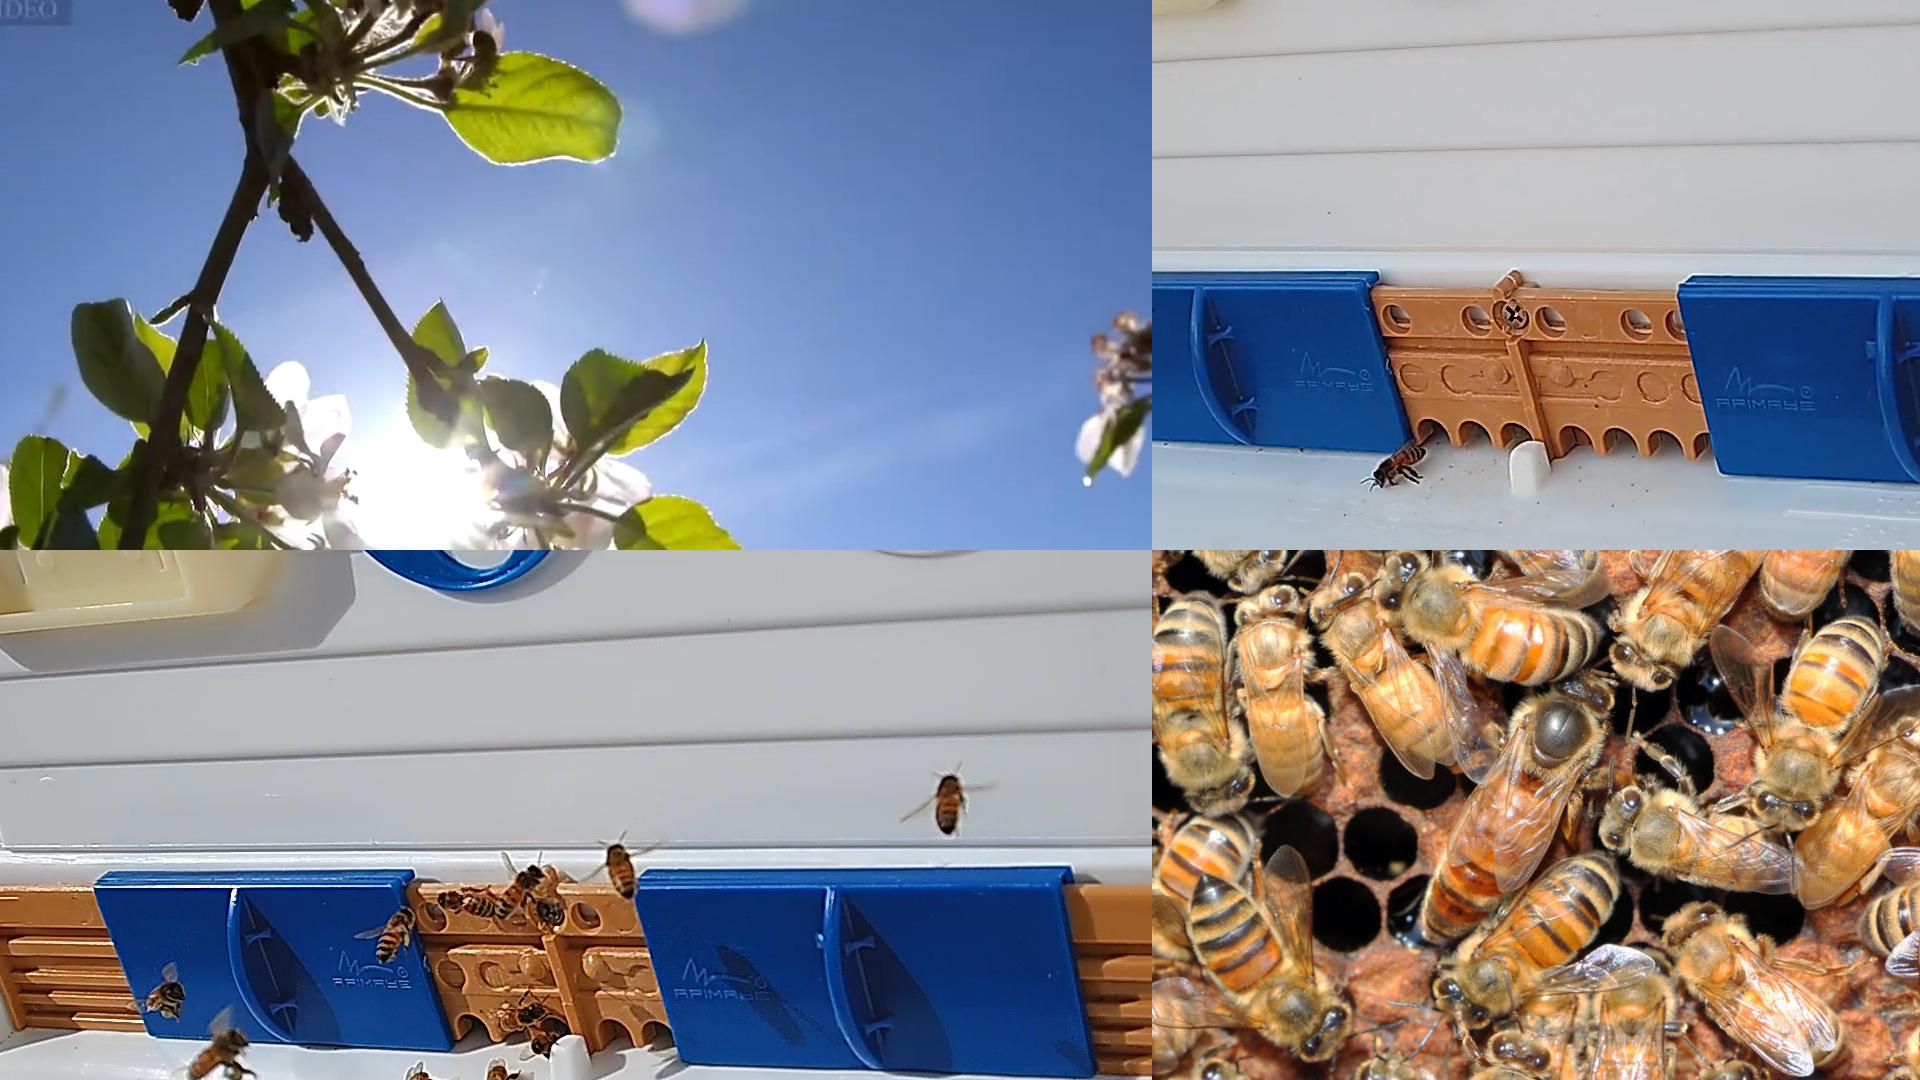bee: (1436, 856, 1617, 1026), (1386, 550, 1605, 683), (1316, 576, 1462, 767), (1671, 906, 1844, 1064), (1201, 874, 1348, 1051), (1760, 616, 1883, 814), (1795, 717, 1919, 903), (1153, 591, 1251, 818), (1614, 550, 1772, 688), (1602, 793, 1801, 895), (1236, 588, 1325, 798), (1153, 807, 1262, 975), (1596, 956, 1672, 1079), (1428, 550, 1598, 596), (1762, 550, 1875, 617), (1153, 942, 1209, 1062), (1854, 862, 1919, 967), (1153, 550, 1280, 595), (1526, 994, 1589, 1079), (1480, 1038, 1549, 1079), (493, 865, 543, 918), (1373, 447, 1424, 487), (1346, 1058, 1424, 1079), (605, 845, 634, 899), (438, 891, 496, 918), (938, 774, 960, 832), (498, 1004, 542, 1030), (533, 1026, 567, 1055), (485, 1065, 506, 1079), (404, 1071, 430, 1079)
pollenbee: (185, 1029, 248, 1079), (373, 905, 418, 963), (141, 978, 189, 1021)
queen: (1425, 670, 1610, 940)
